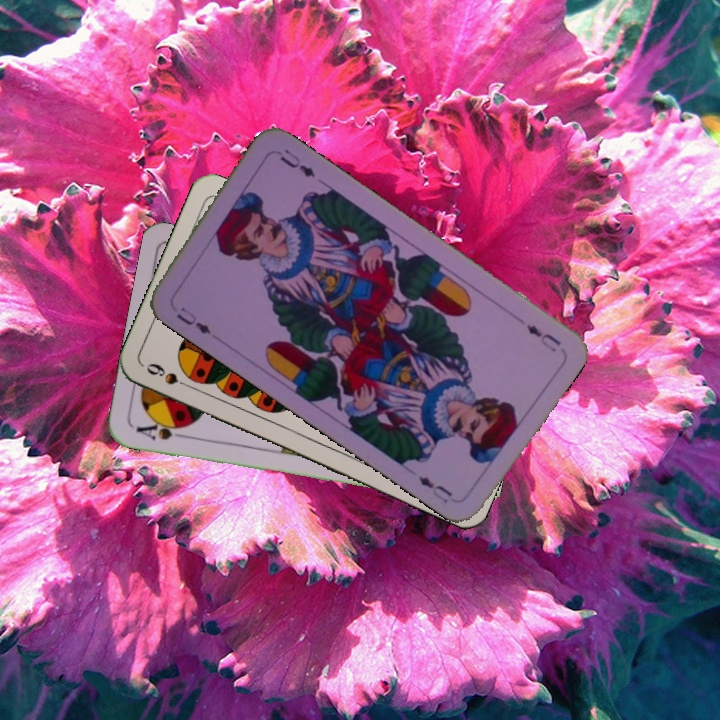EU: (522, 320, 564, 355), (172, 303, 214, 337)
S9: (142, 359, 197, 393)
SA: (131, 416, 191, 443)
